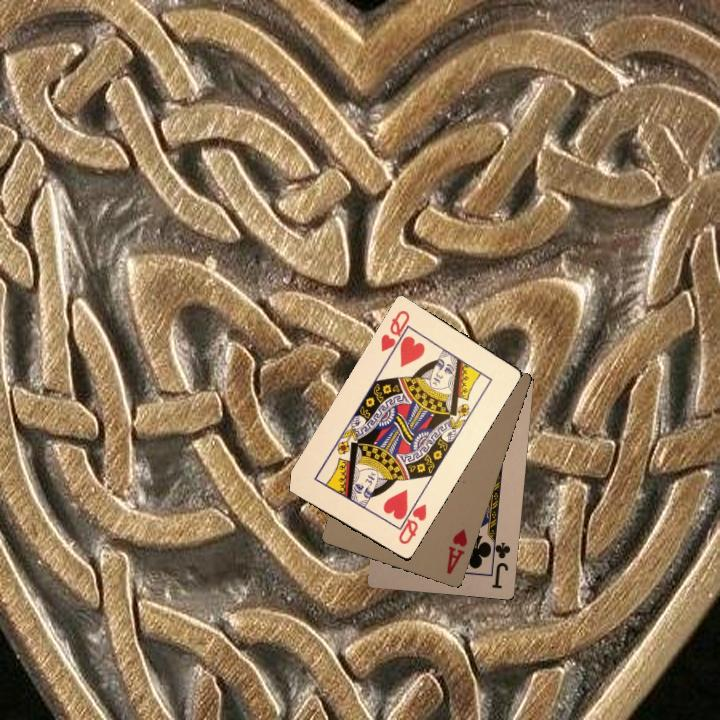Ah: (442, 524, 470, 577)
Jc: (486, 536, 513, 591)
Qh: (377, 306, 413, 360), (394, 496, 429, 547)
